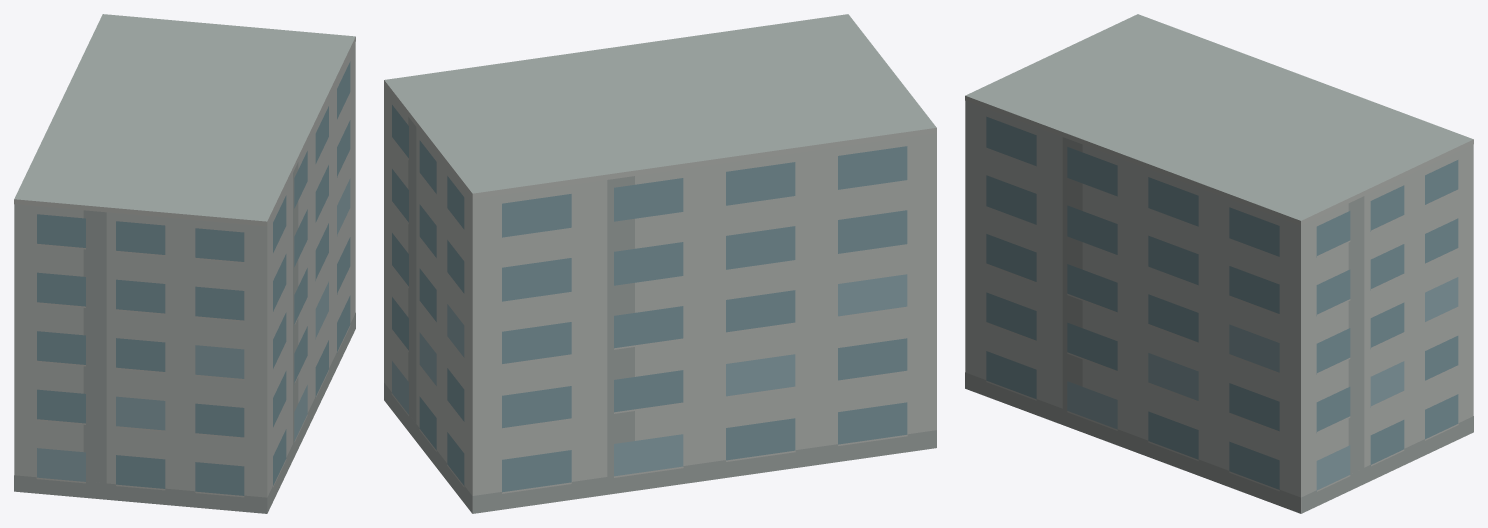
Rendered from survey-upis-32526448.glb.
The picture shows the model from 3 angles, left to right: view 1: azimuth 30°, elevation 25°; view 2: azimuth 150°, elevation 25°; view 3: azimuth 270°, elevation 25°; orthographic projection. The views are drawn at different scales.
Parts seen in each view (by area): view 1: survey-upis-32526448.tmp; view 2: survey-upis-32526448.tmp; view 3: survey-upis-32526448.tmp.
Part boxes in pixels (x1,y1,x2,y2): survey-upis-32526448.tmp: [14, 14, 355, 513]; survey-upis-32526448.tmp: [384, 14, 936, 513]; survey-upis-32526448.tmp: [965, 14, 1473, 513].
Size of the model in its own units: 21.82 by 14.4 by 22.66.
